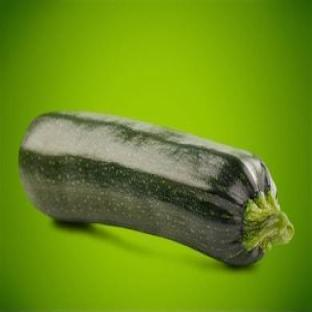Zucchini: (20, 113, 293, 265)
